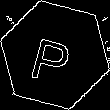P_N: (30, 25, 80, 85)
